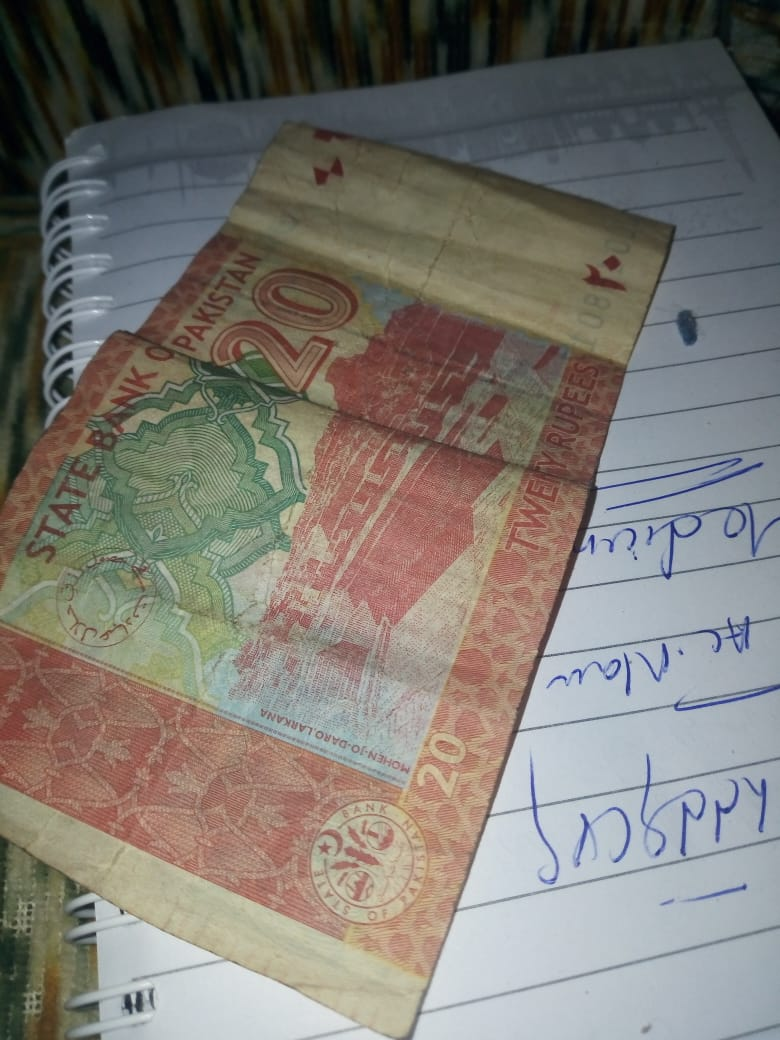20 rupee: (0, 108, 709, 989)
